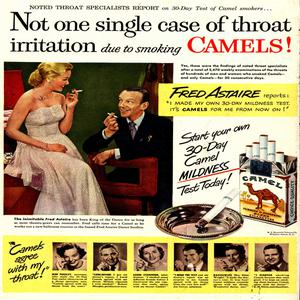cigarette: (196, 184, 241, 233), (105, 113, 123, 120), (70, 88, 86, 94)
